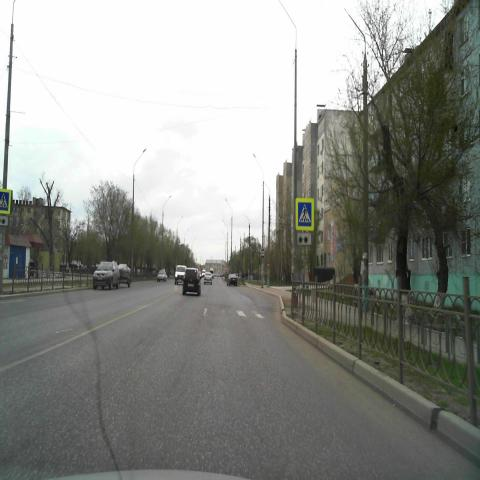8_15: (296, 233, 312, 244)
